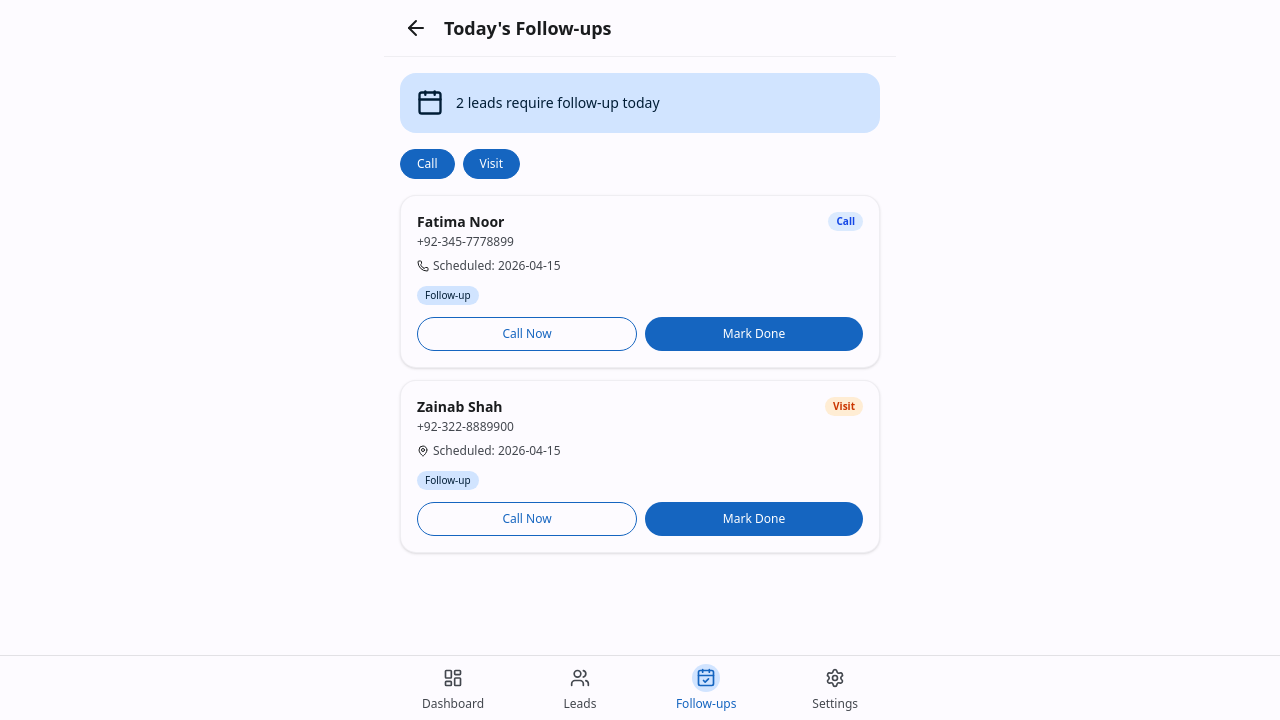
Scenario: FollowUpsPage › filters out Visit leads when Visit chip is toggled off
Click the button "Visit" at (491, 164), box [462,149,520,179]
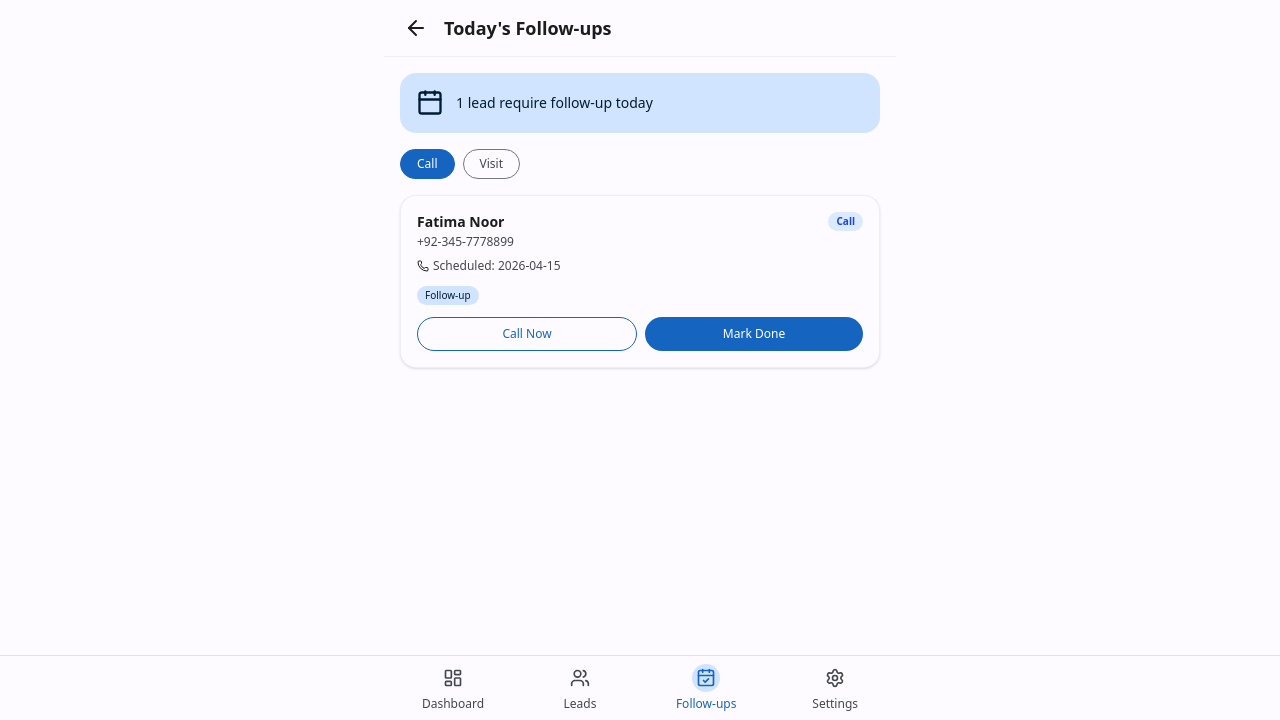
Expected: the text "Fatima Noor" is shown, [417,212,514,232]
Expected: the text "Zainab Shah" is gone
